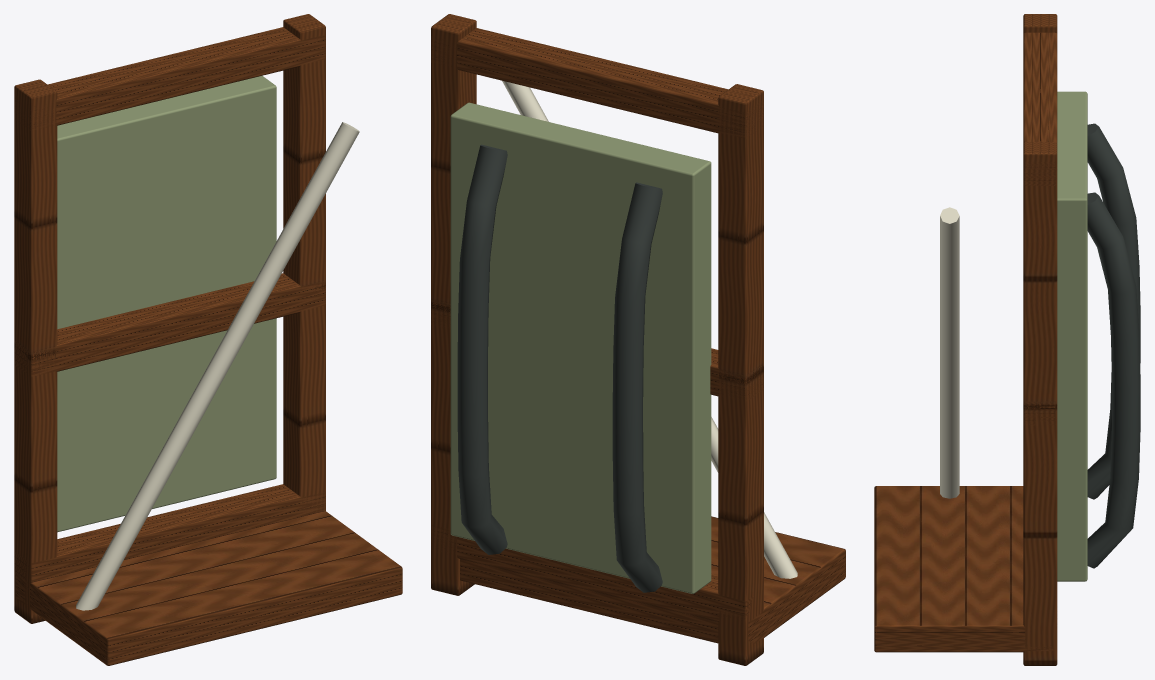
The model's file is backpacks-and-expedition-storage-wooden-cargo-frame-2cebbca5__21072.glb.
The picture shows the model from 3 angles, left to right: view 1: azimuth 30°, elevation 25°; view 2: azimuth 150°, elevation 25°; view 3: azimuth 270°, elevation 25°; orthographic projection. The views are drawn at different scales.
Parts seen in each view (by area): view 1: wooden-cargo-frame; view 2: wooden-cargo-frame; view 3: wooden-cargo-frame.
Part boxes in pixels (bbox=[...]): wooden-cargo-frame: bbox=[14, 14, 402, 665]; wooden-cargo-frame: bbox=[431, 14, 845, 665]; wooden-cargo-frame: bbox=[874, 14, 1140, 665].
Bounding box in the file's own units: 0.44 × 0.75 × 0.3529.
4 materials, 1 textured.
